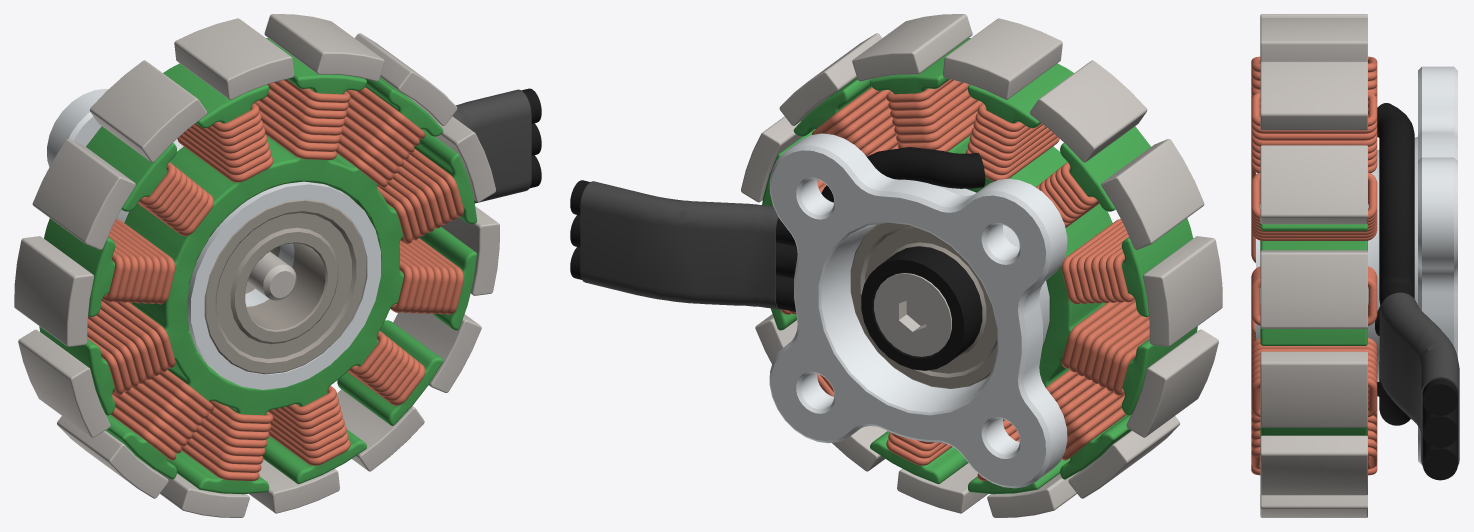
Rendered from stator.glb.
3 renders of one model, left to right at view 1: azimuth 30°, elevation 25°; view 2: azimuth 150°, elevation 25°; view 3: azimuth 270°, elevation 25°, orthographic.
Visible parts, largest first — view 1: BH_Avenger_2806.5-1300KV; view 2: BH_Avenger_2806.5-1300KV; view 3: BH_Avenger_2806.5-1300KV.
Boxes of the visible parts, x1,y1,x2,y2 form: BH_Avenger_2806.5-1300KV: [14, 14, 541, 517]; BH_Avenger_2806.5-1300KV: [570, 14, 1222, 517]; BH_Avenger_2806.5-1300KV: [1251, 14, 1459, 517].
Size of the model in its own units: 0.0402 by 0.0314 by 0.013.
